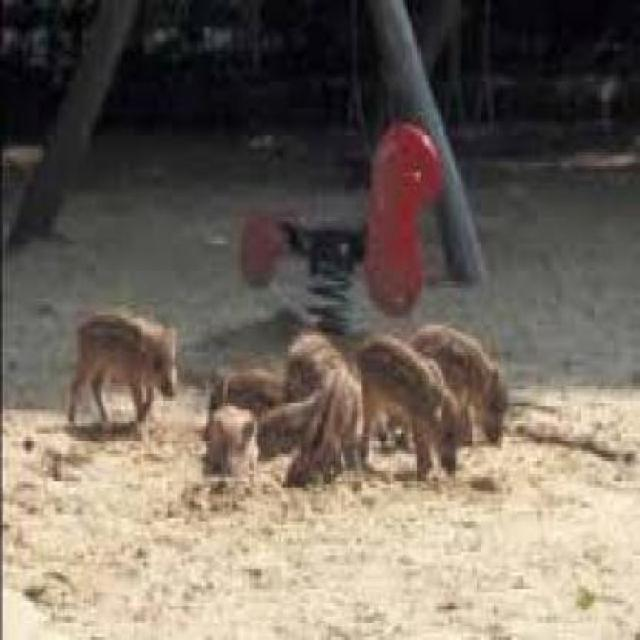wildboar: (395, 322, 513, 478), (205, 360, 332, 497), (353, 333, 464, 487), (61, 306, 184, 440), (283, 330, 375, 482)
